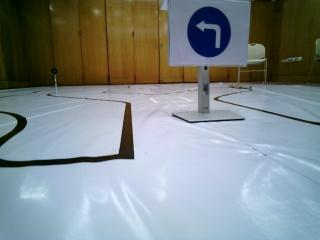left: (175, 0, 250, 65)
